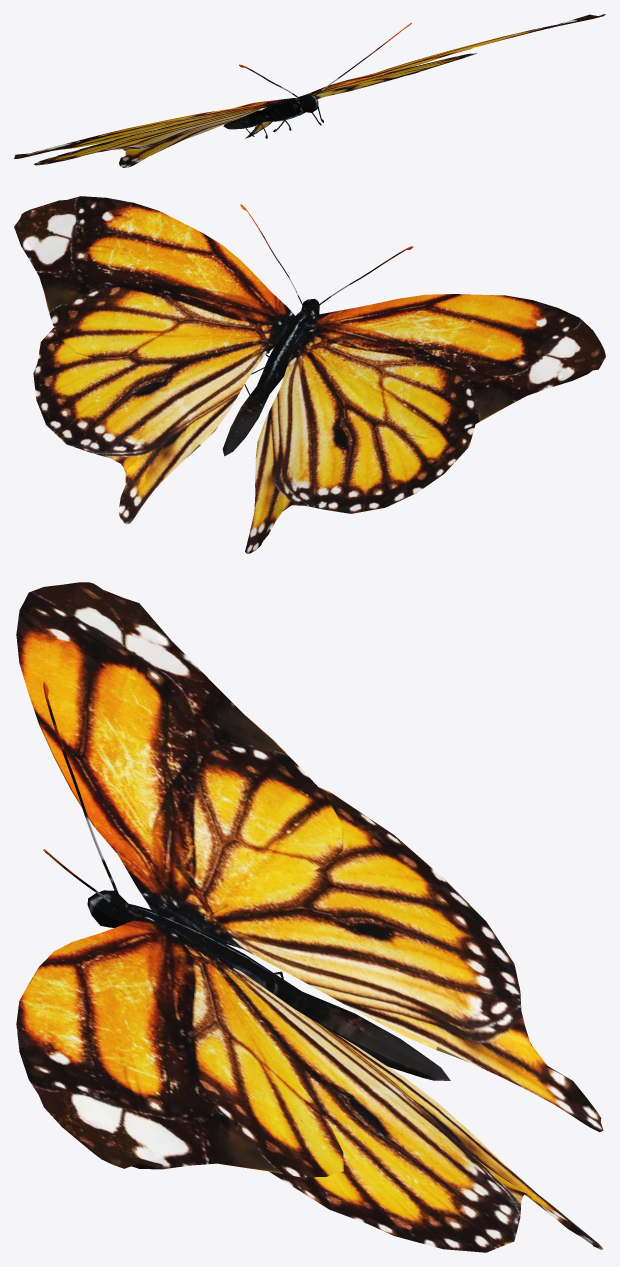
Rendered from butterfly_a.glb.
The picture shows the model from 3 angles, top to bottom: view 1: azimuth 30°, elevation 25°; view 2: azimuth 150°, elevation 25°; view 3: azimuth 270°, elevation 25°; orthographic projection. The views are drawn at different scales.
Visible parts, largest first — view 1: Wings_Side1_Wings_Side1, Wings_Top1_Wings_Top1, Body; view 2: Wings_Top1_Wings_Top1, Wings_Side1_Wings_Side1, Body; view 3: Wings_Top1_Wings_Top1, Wings_Side1_Wings_Side1, Body.
Boxes of the visible parts, box(x1,y1,x2,y2) form: Wings_Side1_Wings_Side1: box(34, 53, 476, 167); Wings_Top1_Wings_Top1: box(14, 14, 605, 158); Body: box(223, 22, 411, 138); Wings_Top1_Wings_Top1: box(14, 196, 605, 439); Wings_Side1_Wings_Side1: box(33, 327, 475, 553); Body: box(222, 204, 413, 456); Wings_Top1_Wings_Top1: box(16, 582, 343, 1177); Wings_Side1_Wings_Side1: box(178, 787, 603, 1252); Body: box(43, 682, 450, 1080).
Bounding box in the file's own units: 171 × 59.08 × 74.22.
1 material, 1 textured.
